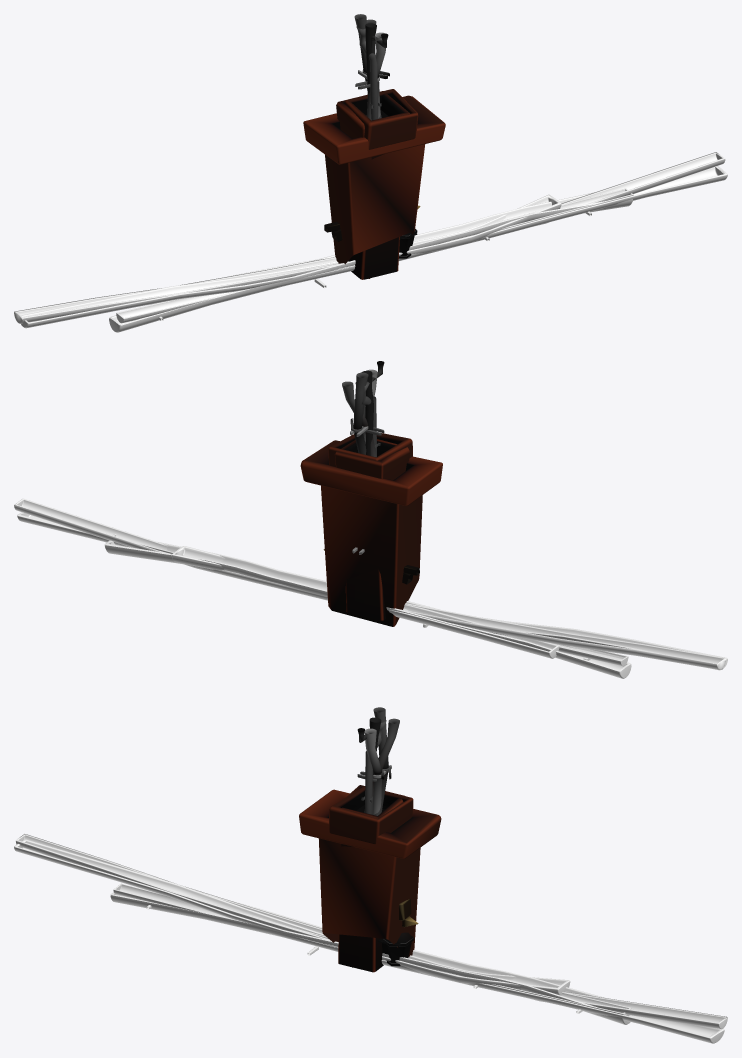
File: ModPipesTubes01.fbx
The picture shows the model from 3 angles, top to bottom: view 1: azimuth 30°, elevation 25°; view 2: azimuth 150°, elevation 25°; view 3: azimuth 330°, elevation 25°; orthographic projection.
Visible parts, largest first — view 1: ModTube02, ModTubeHouse03, ModTubeHouse06, ModTubeHouse01, ModTube03, ModTubeHouse08, ModTubeHouse02, ModTube01, ModPipeHouse04; view 2: ModTube02, ModTubeHouse06, ModTubeHouse01, ModTubeHouse02, ModTube03, ModTubeHouse03, ModTube01, ModTubeHouse08, ModPipeHouse06, ModPipeHouse01, ModPipeHouse02; view 3: ModTube02, ModTubeHouse03, ModTubeHouse06, ModTube03, ModTubeHouse01, ModTubeHouse08, ModTubeHouse02, ModPipeHouse05, ModLight02, ModPipeHouse06, ModPipeHouse01, ModPipeHouse04.
Boxes of the visible parts, x1,y1,x2,y2 form: ModTube02: (303,95,445,264); ModTubeHouse03: (21,166,727,328); ModTubeHouse06: (14,152,725,323); ModTubeHouse01: (109,192,633,332); ModTube03: (345,89,418,279); ModTubeHouse08: (116,188,633,323); ModTubeHouse02: (228,194,561,280); ModTube01: (336,91,409,278); ModPipeHouse04: (356,26,381,120); ModTube02: (300,440,442,626); ModTubeHouse06: (14,498,726,669); ModTubeHouse01: (104,540,631,678); ModTubeHouse02: (171,546,559,658); ModTube03: (328,433,412,620); ModTubeHouse03: (17,512,727,670); ModTube01: (334,439,410,480); ModTubeHouse08: (113,534,628,666); ModPipeHouse06: (350,372,368,454); ModPipeHouse01: (342,381,384,457); ModPipeHouse02: (361,370,373,455); ModTube02: (299,789,441,956); ModTubeHouse03: (14,839,724,1043); ModTubeHouse06: (15,834,727,1029); ModTube03: (329,786,413,972); ModTubeHouse01: (110,892,630,1024); ModTubeHouse08: (113,883,631,1016); ModTubeHouse02: (230,900,570,995); ModPipeHouse05: (364,728,391,814); ModLight02: (383,899,414,966); ModPipeHouse06: (373,707,391,815); ModPipeHouse01: (357,718,399,812); ModPipeHouse04: (361,720,386,814).
Size of the model in its own units: 9.92 by 3.35 by 0.9035.
